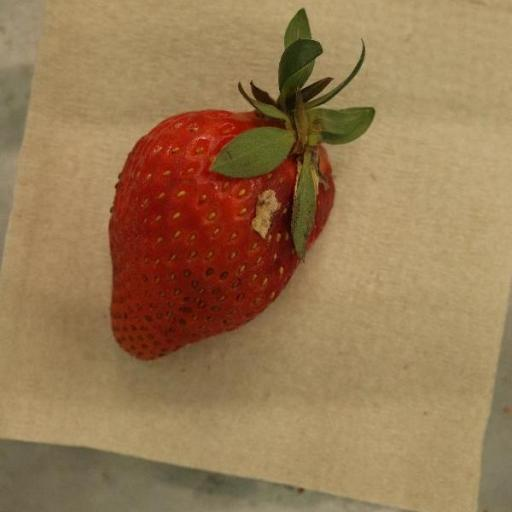Strawberry: (107, 10, 376, 362)
